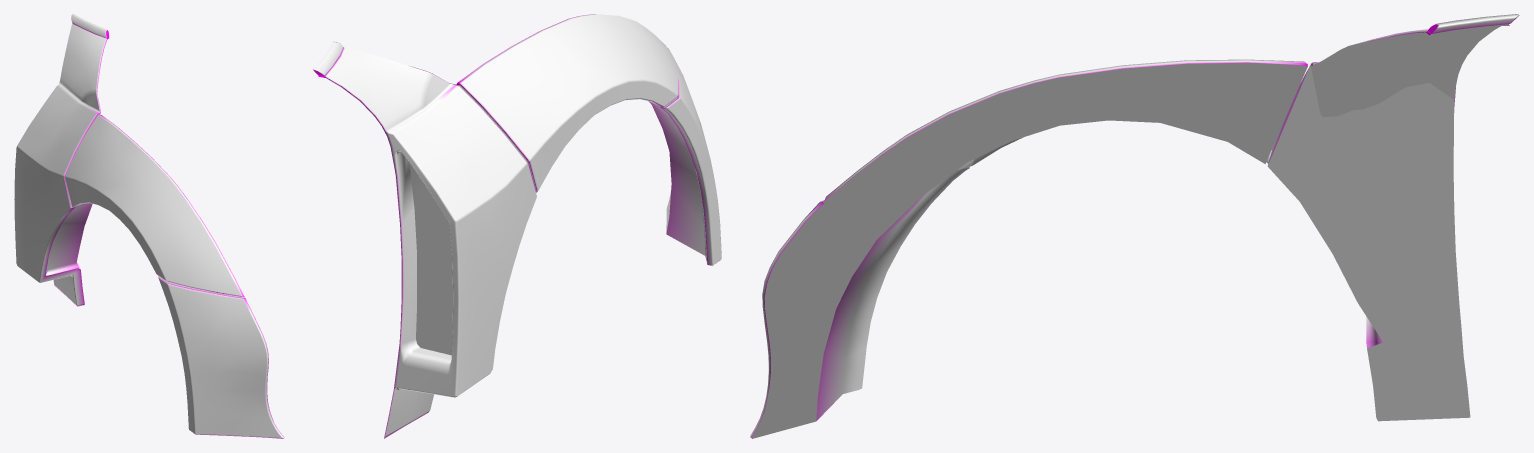
File: Car_Mini_CountrymanJCW_2017_FenderFR_SetC.fbx
3 renders of one model, left to right at view 1: azimuth 30°, elevation 25°; view 2: azimuth 150°, elevation 25°; view 3: azimuth 270°, elevation 25°, orthographic. The views are drawn at different scales.
Visible parts, largest first — view 1: FenderFR 6; view 2: FenderFR 6; view 3: FenderFR 6.
Part boxes in pixels (<box>): FenderFR 6: <box>14,14,284,438</box>; FenderFR 6: <box>313,14,721,438</box>; FenderFR 6: <box>750,14,1519,438</box>.
Size of the model in its own units: 0.281 by 0.7603 by 1.21.
